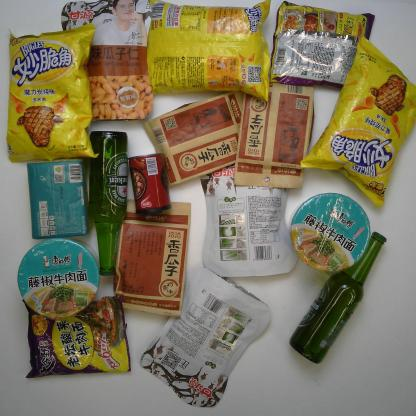Alcohol: (280, 219, 393, 370), (86, 119, 142, 279)
Canned Food: (121, 144, 182, 220)
Dried Food: (125, 82, 259, 190), (231, 75, 337, 190), (111, 189, 200, 323)
Dried Fruit: (136, 266, 281, 411), (47, 2, 161, 125), (186, 146, 292, 278)
Instant Noodles: (8, 288, 136, 386), (264, 0, 381, 84), (13, 229, 106, 328), (289, 178, 381, 276)
Puffed Food: (290, 33, 412, 210), (135, 0, 278, 104), (3, 20, 100, 162)
Tissue: (18, 148, 98, 246)
